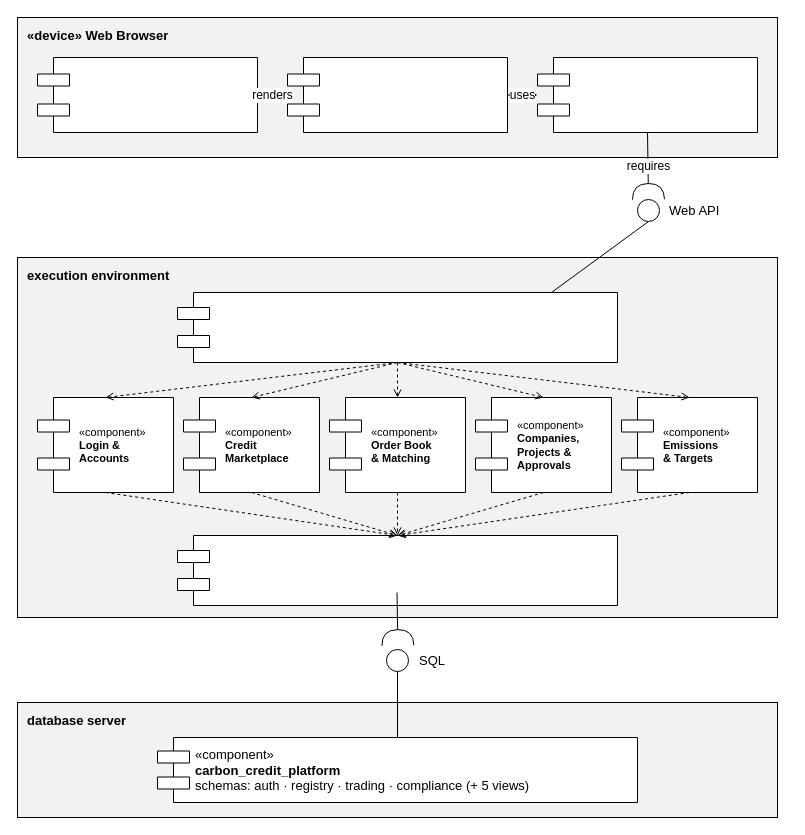
This 805x835 diagram has some shape labels left out. Each missing label, with the centre of its shape:
"«component» Database Gateway & Audit Trail connection pool,audit trail writer" goes at pixel 397 570.
"«component» Page Navigator" goes at pixel 147 94.
"«component» Request Gatekeeper rate limit , login token , role check" goes at pixel 397 327.
"«component» Screens" goes at pixel 397 94.
"«component» Server Connector" goes at pixel 647 94.
